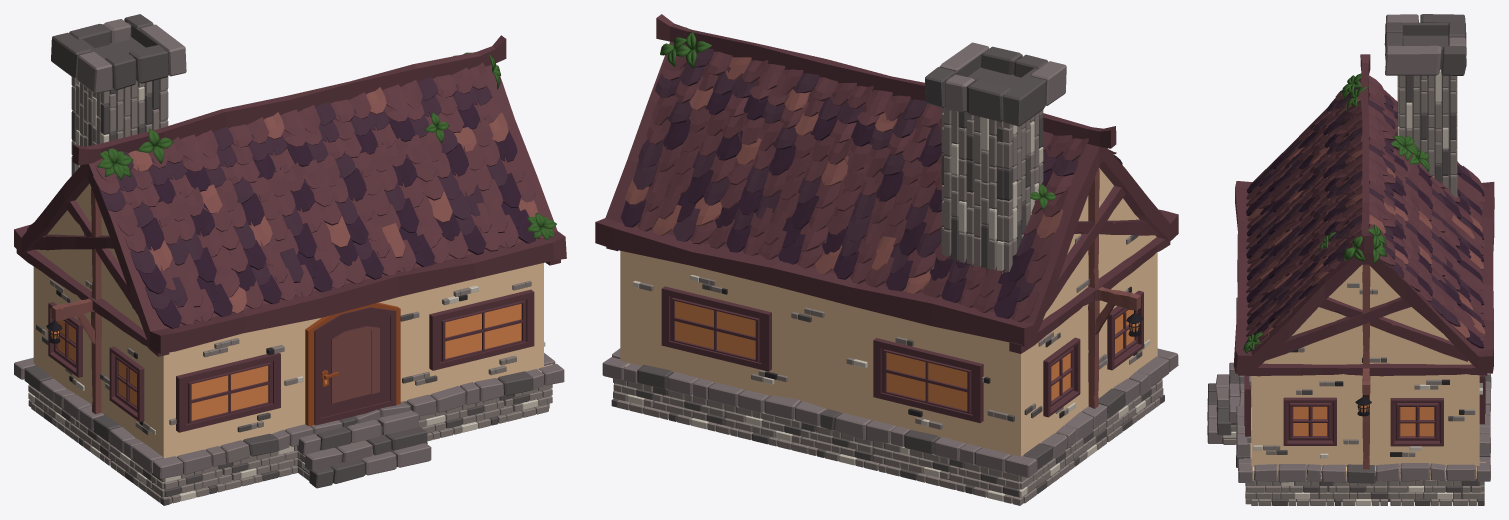
File: casa-2.fbx
3 renders of one model, left to right at view 1: azimuth 30°, elevation 25°; view 2: azimuth 150°, elevation 25°; view 3: azimuth 270°, elevation 25°, orthographic. The views are drawn at different scales.
Parts seen in each view (by area): view 1: Cube.033; view 2: Cube.033; view 3: Cube.033.
Part boxes in pixels (<box>): Cube.033: <box>14,14,566,505</box>; Cube.033: <box>595,14,1178,505</box>; Cube.033: <box>1207,14,1494,505</box>.
Size of the model in its own units: 736 by 547 by 431.
